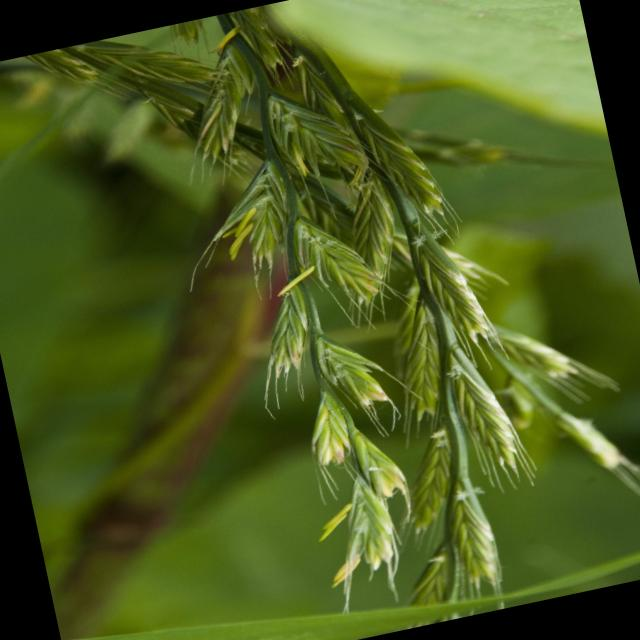Lolium: (159, 0, 603, 640)
